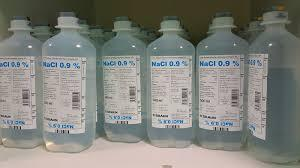Iv_Bottle: (248, 6, 299, 163), (42, 12, 96, 152), (196, 12, 247, 149), (147, 16, 194, 147), (102, 16, 145, 141), (0, 16, 41, 147), (89, 26, 104, 136), (32, 24, 52, 42)
